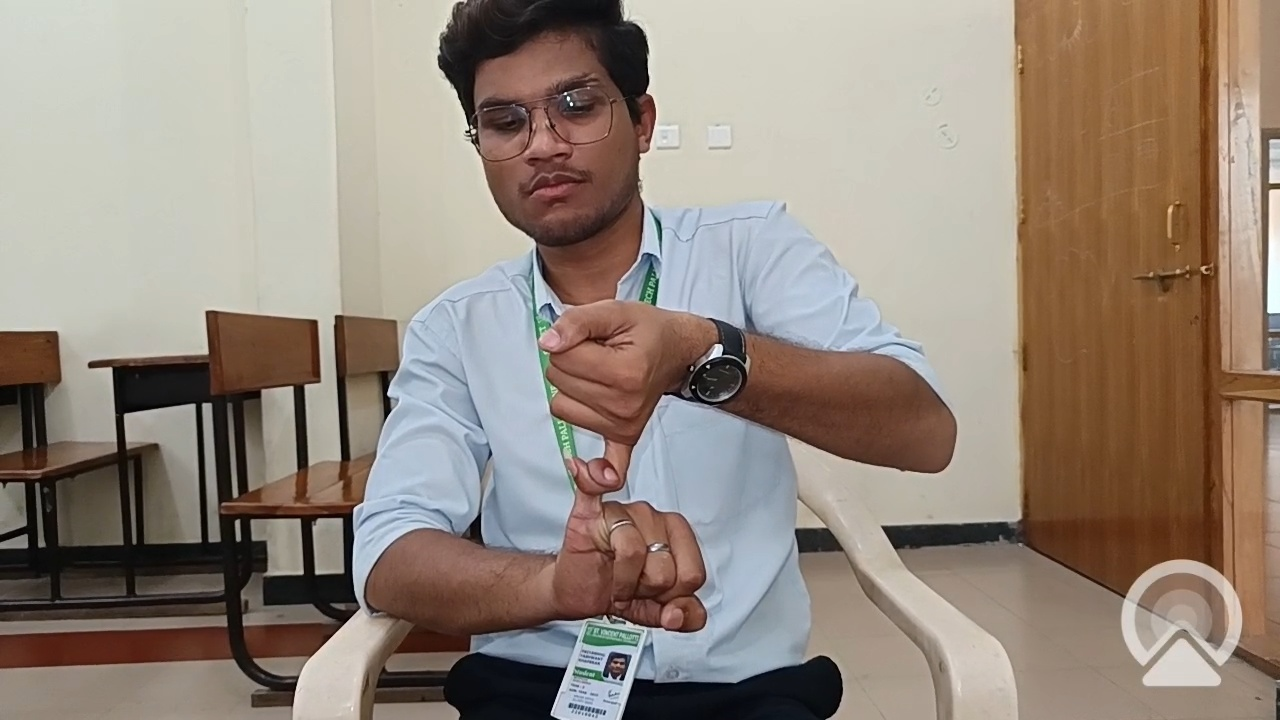S: (470, 231, 949, 644)
